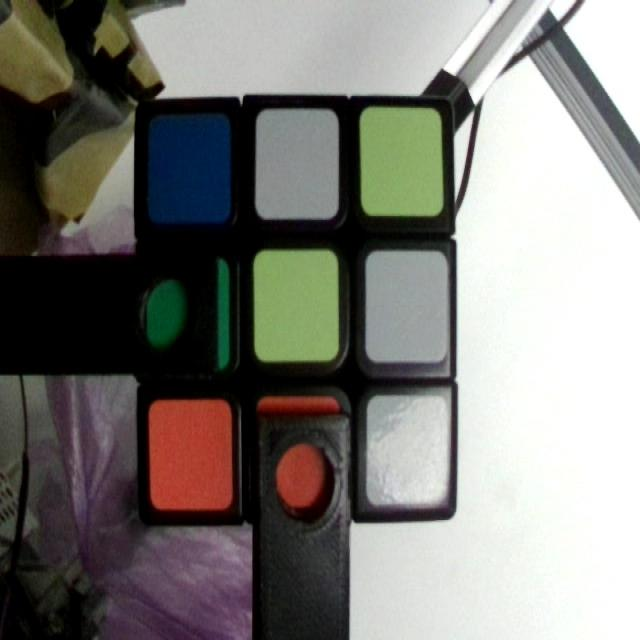b: (152, 115, 230, 217)
g: (145, 255, 227, 369)
o: (148, 404, 233, 511), (256, 396, 338, 505)
w: (366, 253, 452, 363), (258, 108, 336, 216), (368, 398, 445, 502)
y: (256, 252, 338, 357), (362, 107, 441, 213)
